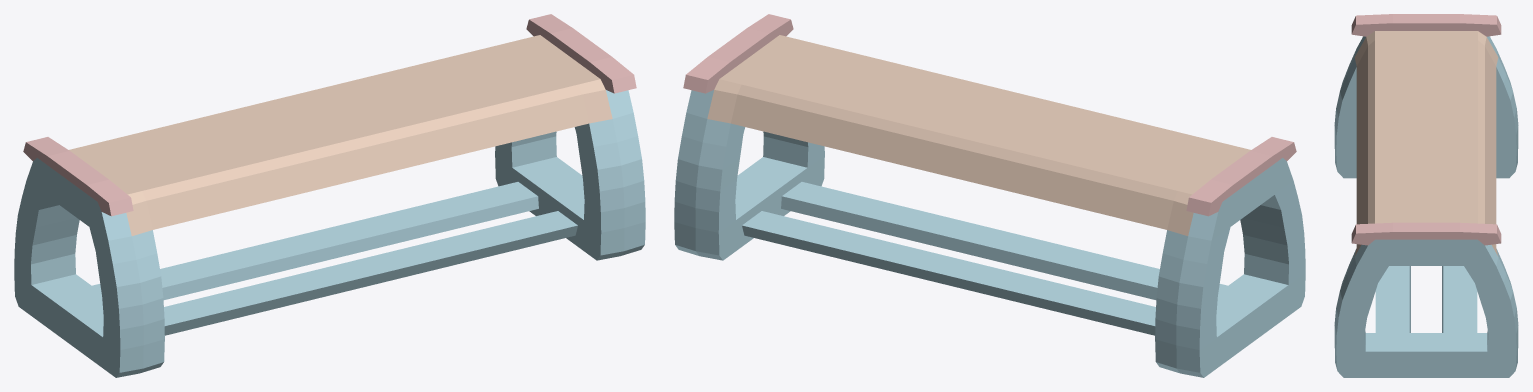
The model's file is Character_Rooms_Bench.fbx.
The picture shows the model from 3 angles, left to right: view 1: azimuth 30°, elevation 25°; view 2: azimuth 150°, elevation 25°; view 3: azimuth 270°, elevation 25°; orthographic projection. The views are drawn at different scales.
Visible parts, largest first — view 1: bench; view 2: bench; view 3: bench.
Part boxes in pixels (<box>): bench: <box>14,14,645,377</box>; bench: <box>674,14,1305,377</box>; bench: <box>1334,14,1518,377</box>.
Size of the model in its own units: 395 by 123 by 141.
